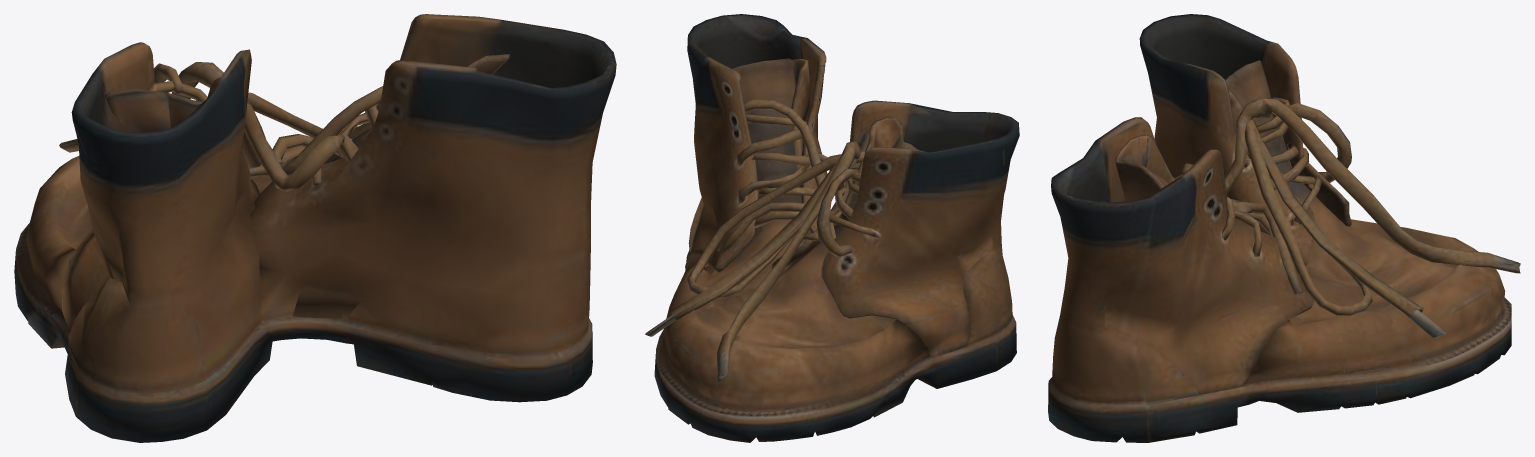
File: office-gear-boots.glb
3 renders of one model, left to right at view 1: azimuth 30°, elevation 25°; view 2: azimuth 150°, elevation 25°; view 3: azimuth 270°, elevation 25°, orthographic. The views are drawn at different scales.
Visible parts, largest first — view 1: gear-boots; view 2: gear-boots; view 3: gear-boots.
Part boxes in pixels (x1,y1,x2,y2): gear-boots: [14, 14, 616, 442]; gear-boots: [645, 14, 1019, 442]; gear-boots: [1048, 14, 1520, 442].
Size of the model in its own units: 0.3008 by 0.1946 by 0.32.
Materials: 1 (1 with a texture image).
